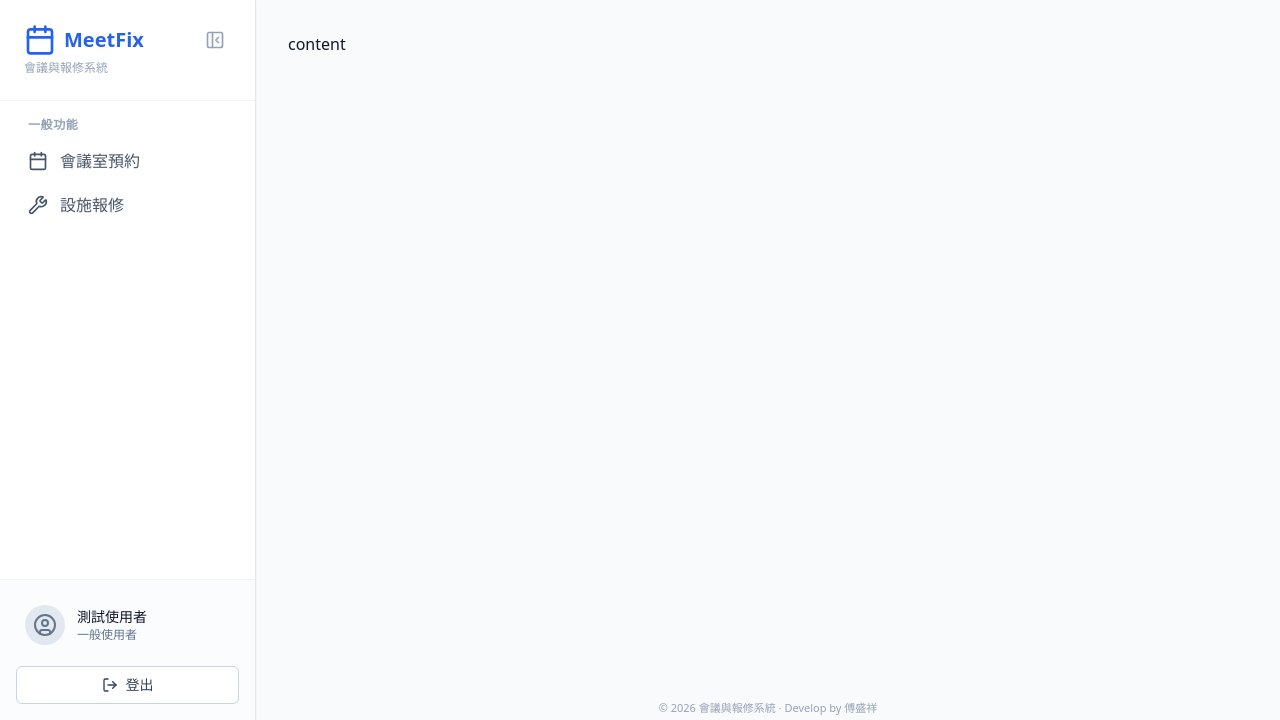
Scenario: Layout — Account Settings 報修人資料 › saves class/phone via updateProfile when the save button is clicked
Click the element titled "點擊開啟帳號設定": (86, 625) top-left (25, 605), bottom-right (147, 645)
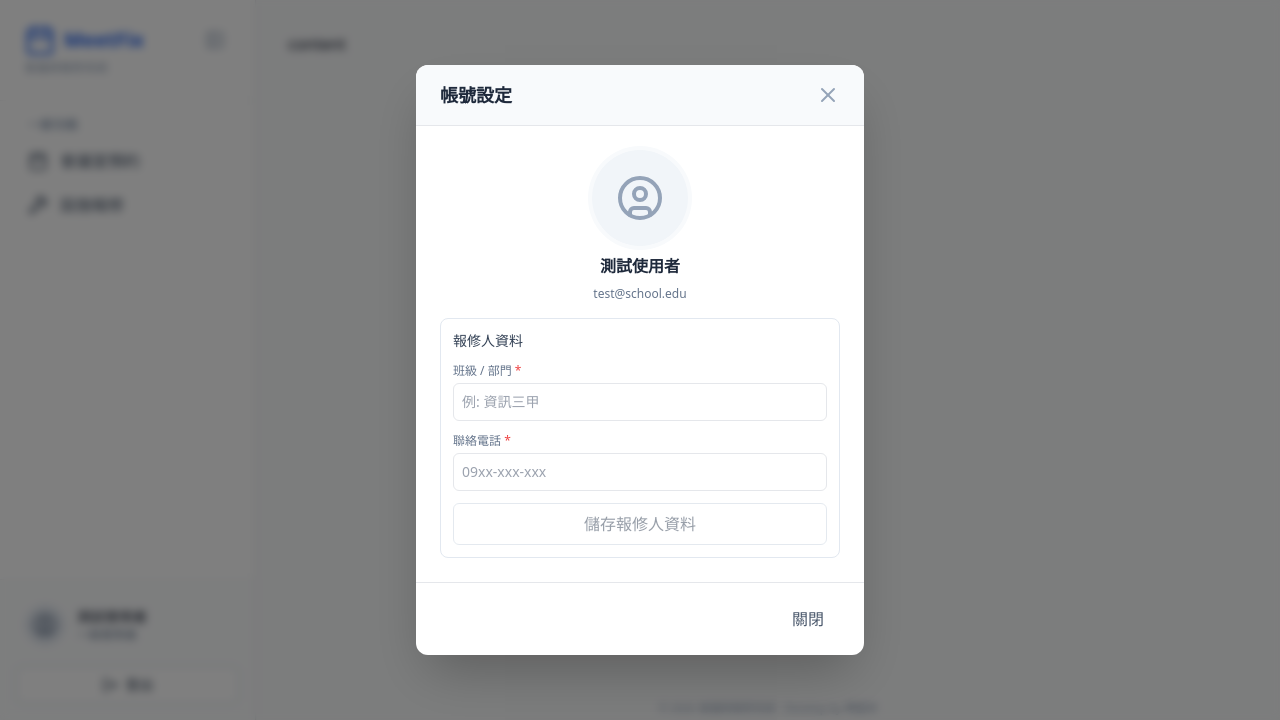
Expected: the heading "帳號設定" is shown, top-left (440, 81), bottom-right (512, 109)
In the field with placeholder "例: 資訊三甲": (640, 402) top-left (453, 383), bottom-right (827, 421), type "資訊三甲"
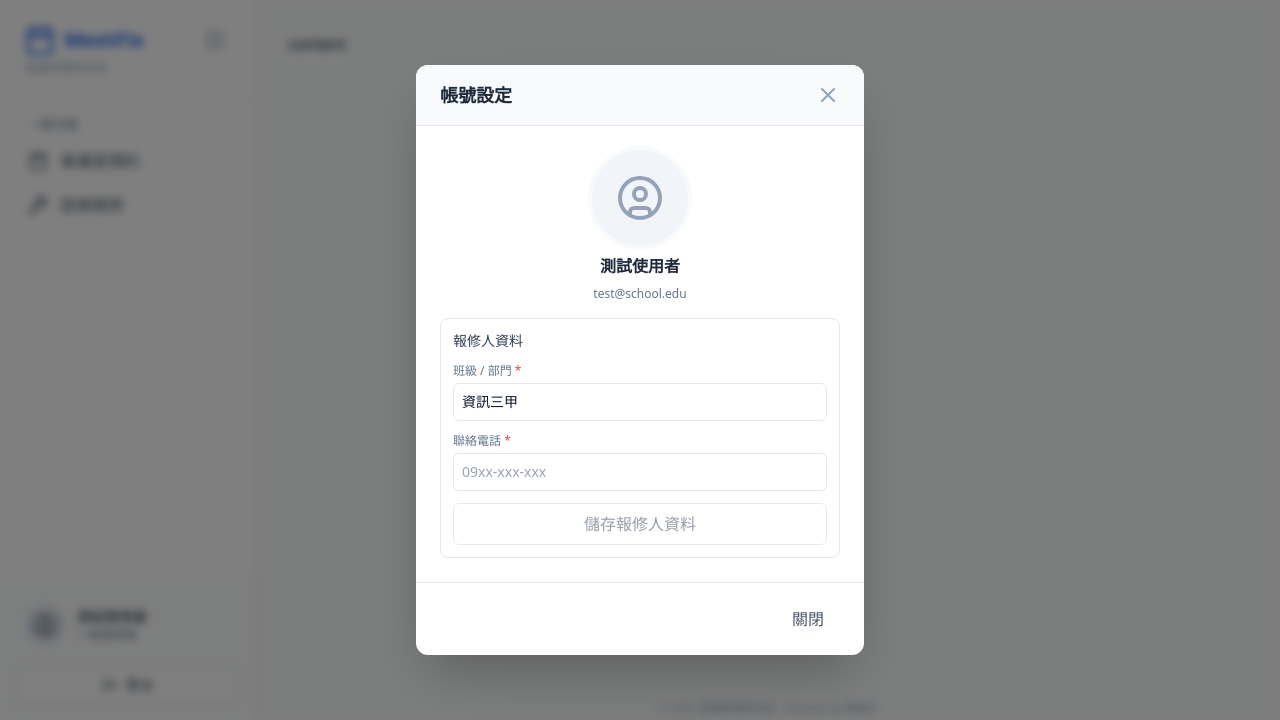
In the field with placeholder "09xx-xxx-xxx": (640, 472) top-left (453, 453), bottom-right (827, 491), type "0912-345-678"
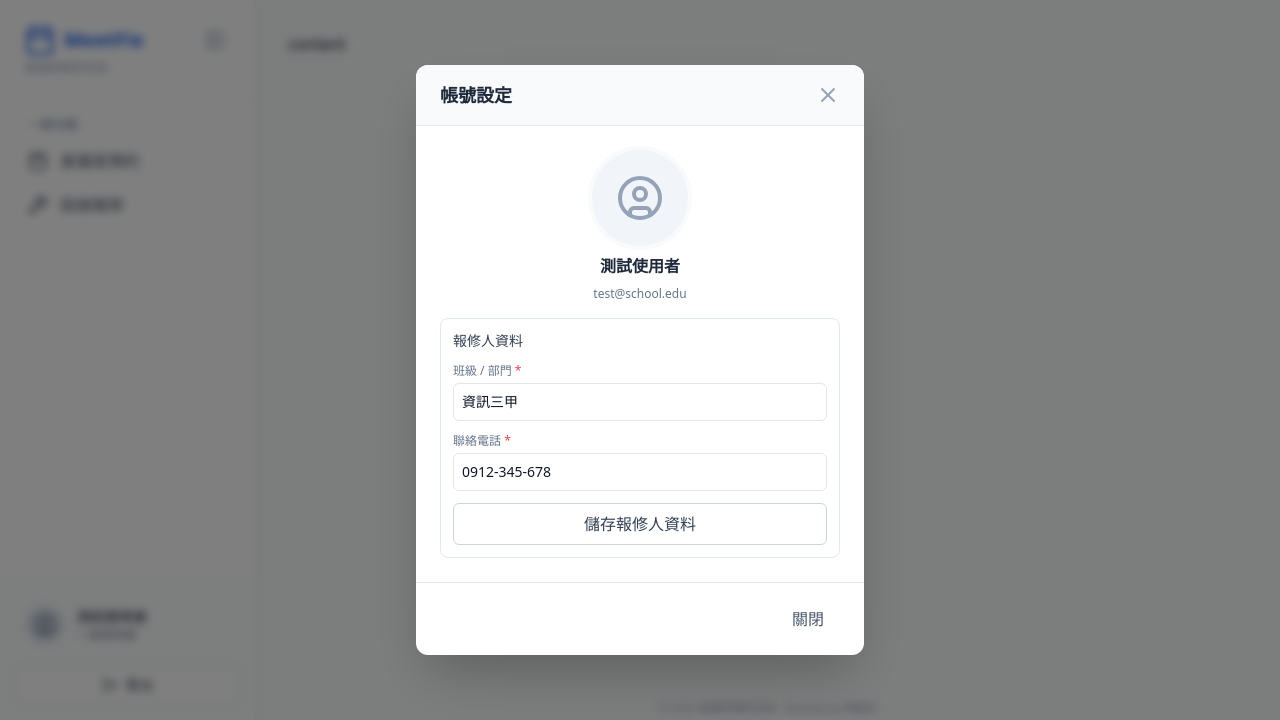
Click the button "儲存報修人資料": (640, 524) top-left (453, 503), bottom-right (827, 545)
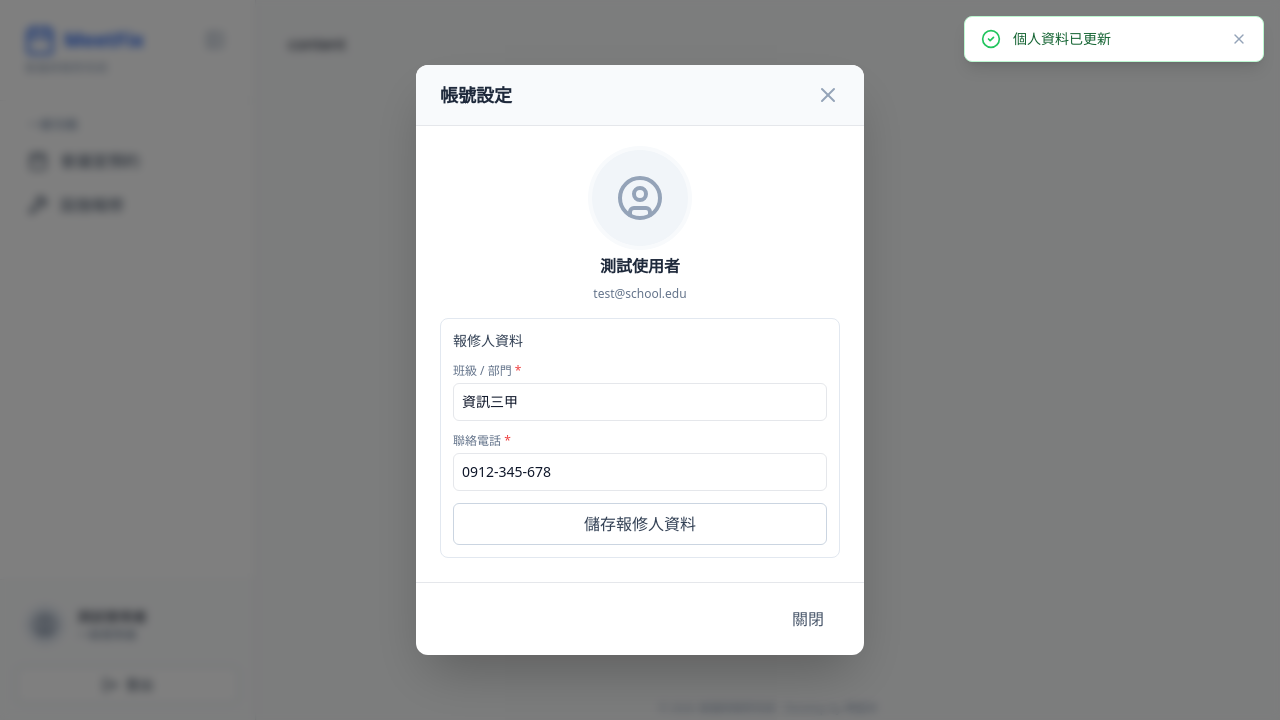
Expected: the text "個人資料已更新" is shown, top-left (1013, 29), bottom-right (1111, 48)
